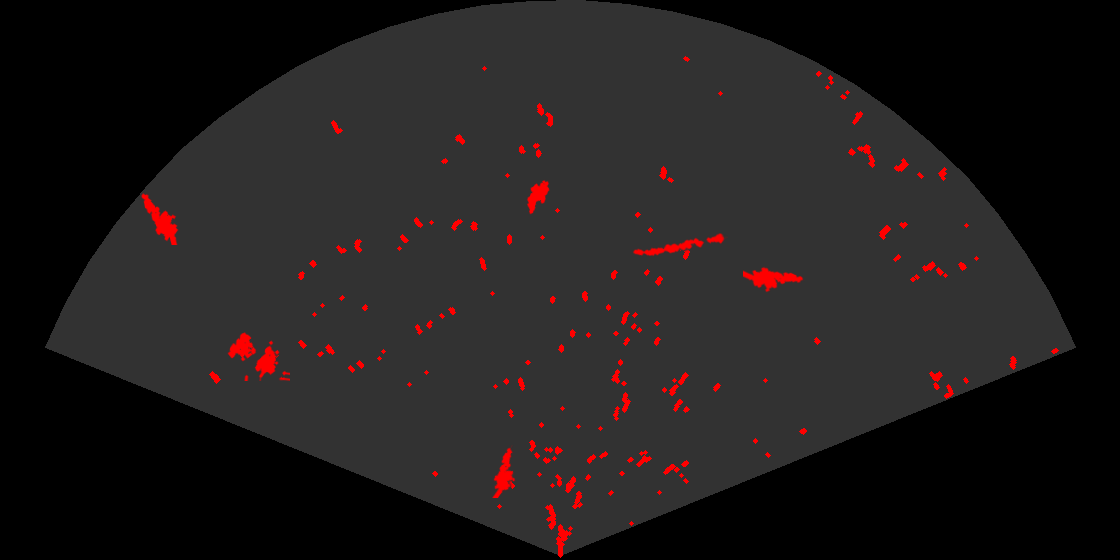AUV: (525, 178, 551, 216)
cage: (226, 331, 290, 381)
chain: (631, 232, 728, 258)
frogman: (140, 191, 180, 245), (743, 265, 805, 294), (491, 445, 517, 498)
